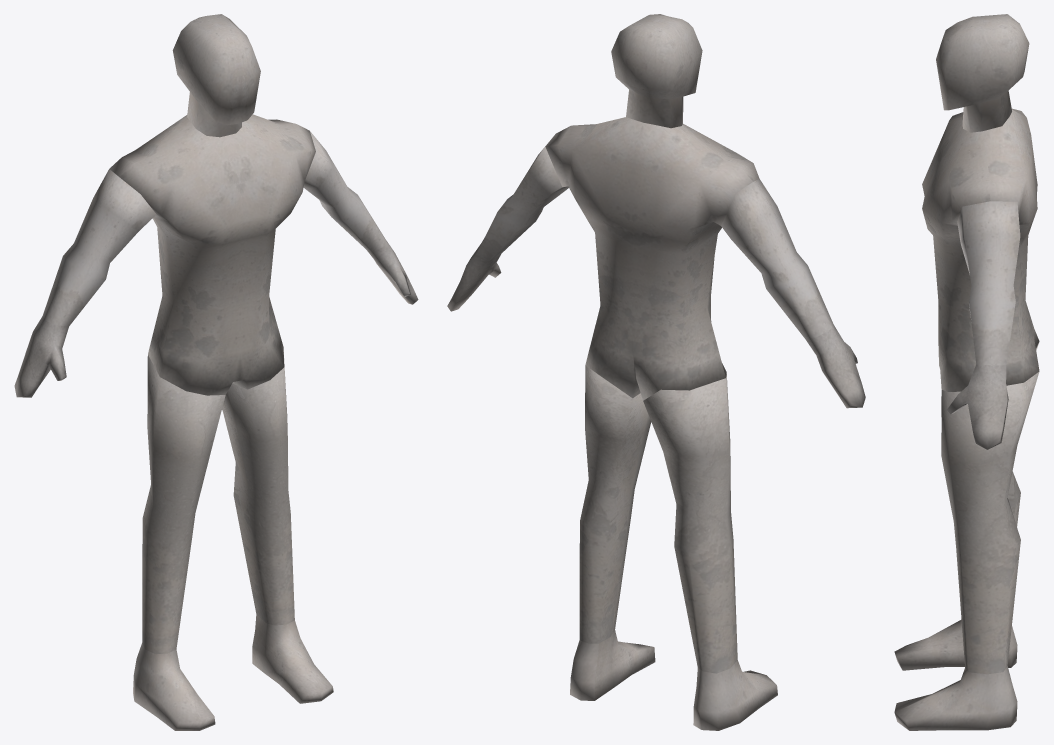
The model's file is mannequin_m_pieces.fbx.
3 views of the same model, side by side, from view 1: azimuth 30°, elevation 25°; view 2: azimuth 150°, elevation 25°; view 3: azimuth 270°, elevation 25° (orthographic). The views are drawn at different scales.
Parts seen in each view (by area): view 1: mannequin_m_torso, mannequin_m_legR, mannequin_m_legL, mannequin_m_armR, mannequin_m_head, mannequin_m_armL; view 2: mannequin_m_torso, mannequin_m_legR, mannequin_m_legL, mannequin_m_armR, mannequin_m_head, mannequin_m_armL; view 3: mannequin_m_legL, mannequin_m_torso, mannequin_m_armL, mannequin_m_head, mannequin_m_legR.
Part boxes in pixels (x1=…): mannequin_m_torso: x1=109, y1=114, x2=315, y2=395; mannequin_m_legR: x1=133, y1=355, x2=225, y2=730; mannequin_m_legL: x1=222, y1=352, x2=333, y2=703; mannequin_m_armR: x1=14, y1=169, x2=156, y2=397; mannequin_m_head: x1=172, y1=14, x2=260, y2=137; mannequin_m_armL: x1=303, y1=131, x2=418, y2=304; mannequin_m_torso: x1=545, y1=117, x2=759, y2=400; mannequin_m_legR: x1=643, y1=374, x2=777, y2=730; mannequin_m_legL: x1=570, y1=365, x2=655, y2=700; mannequin_m_armR: x1=721, y1=179, x2=865, y2=408; mannequin_m_head: x1=611, y1=14, x2=702, y2=128; mannequin_m_armL: x1=447, y1=140, x2=568, y2=311; mannequin_m_legL: x1=894, y1=372, x2=1039, y2=730; mannequin_m_torso: x1=922, y1=108, x2=1039, y2=391; mannequin_m_armL: x1=947, y1=201, x2=1020, y2=449; mannequin_m_head: x1=936, y1=14, x2=1029, y2=132; mannequin_m_legR: x1=894, y1=343, x2=1038, y2=670.
Bounding box in the file's own units: 120 × 190 × 37.19.
